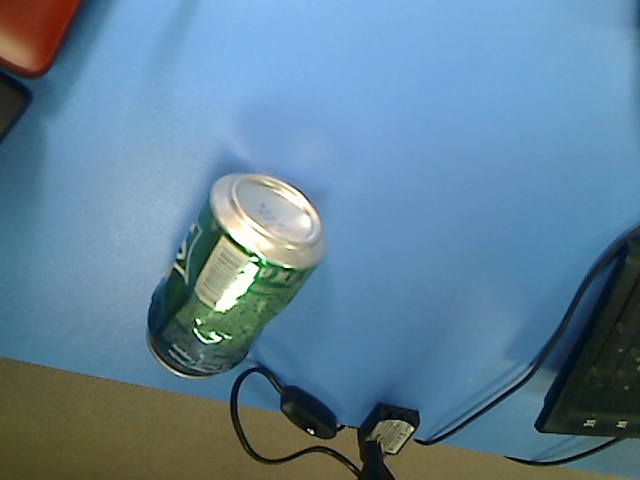can: (145, 170, 327, 385)
